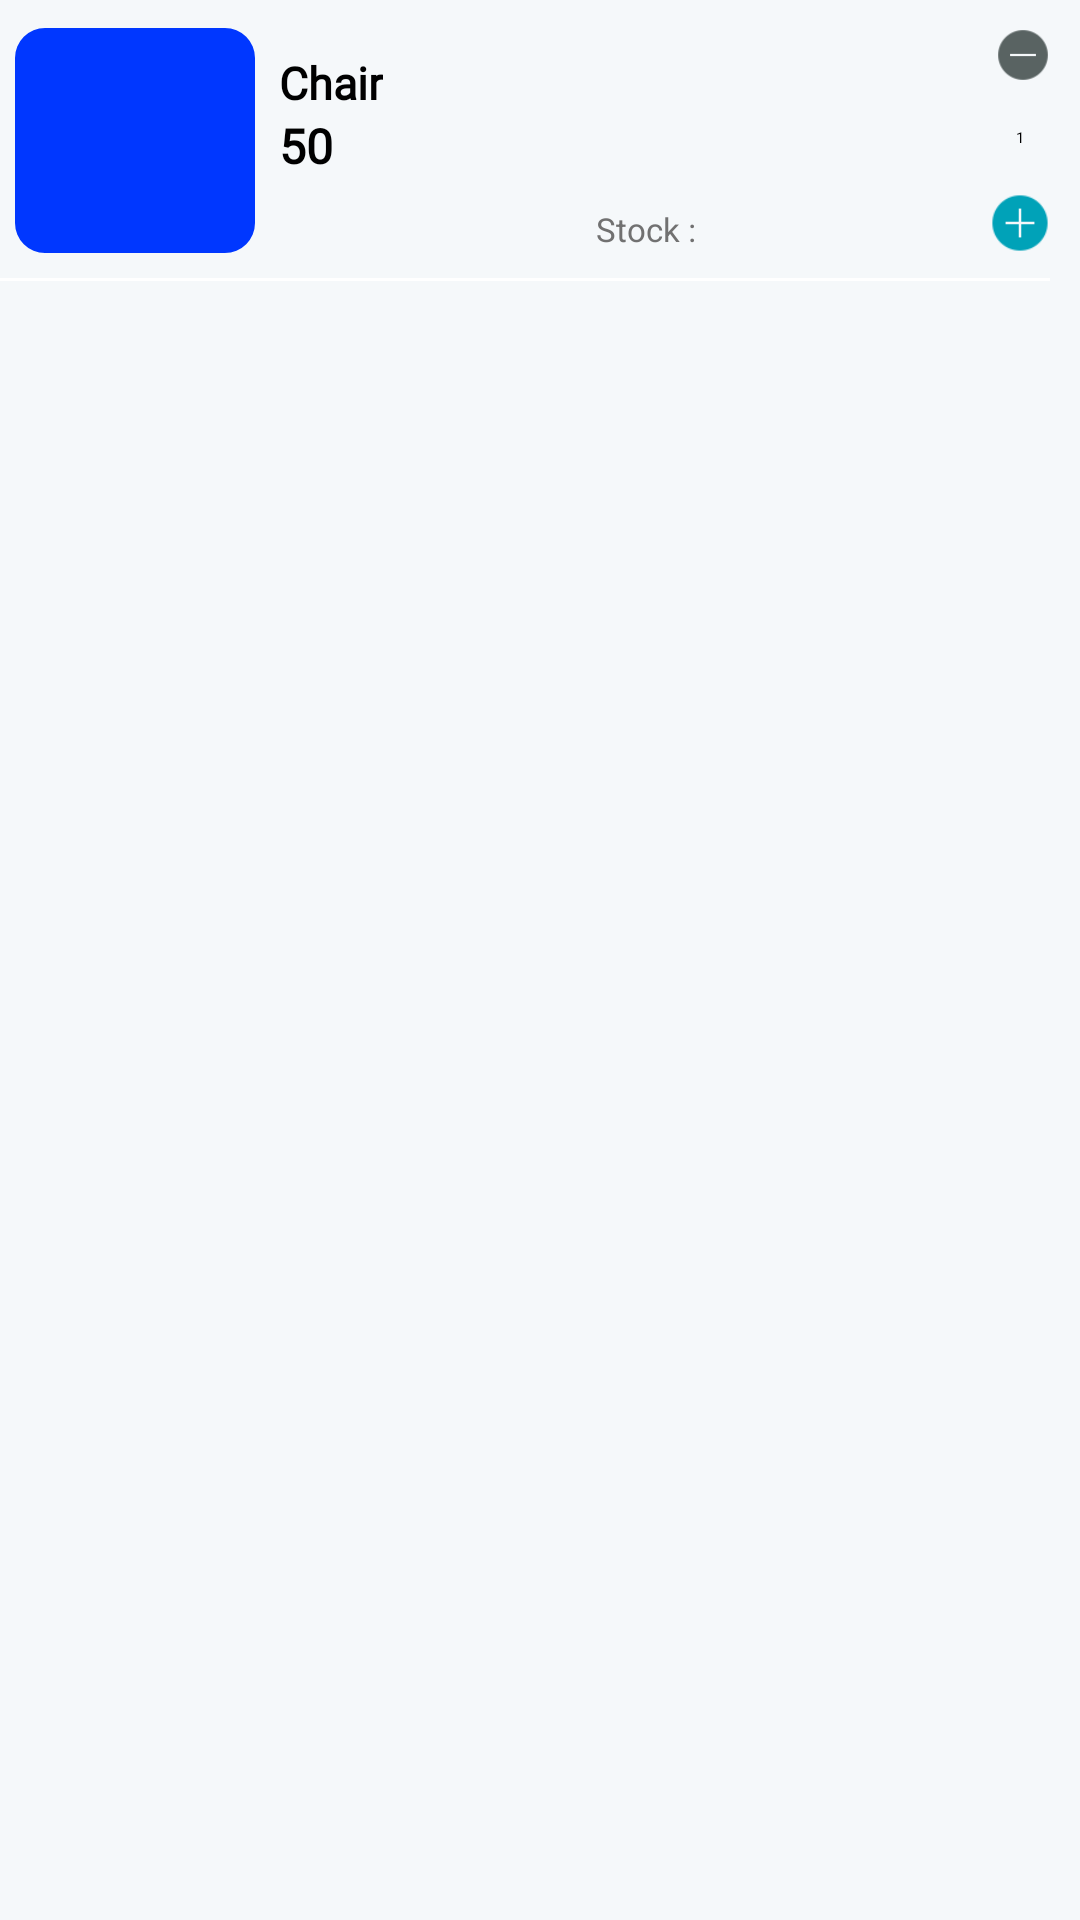

Where to tap for icons on this 1080px x 1920px app screen, as point (x, y):
decrement: point (1023, 55)
increment: point (1020, 223)
